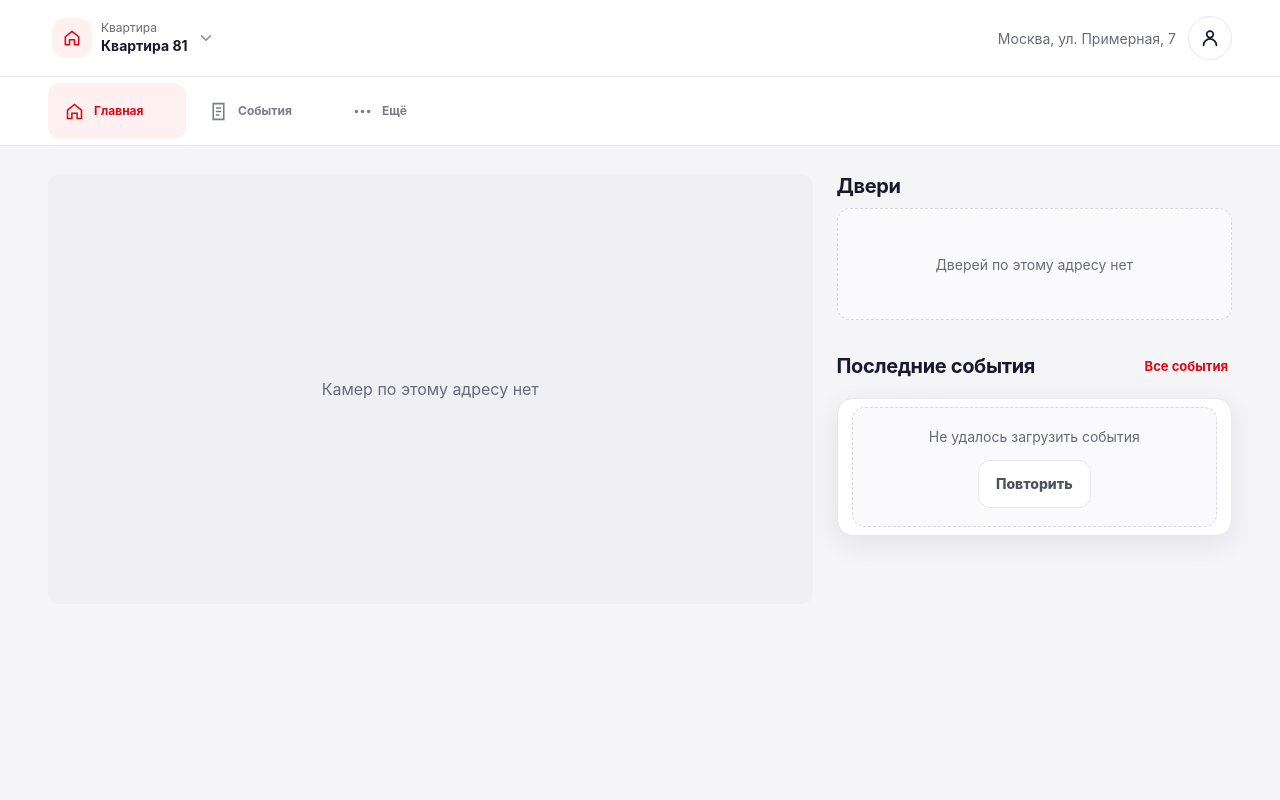
Test: live intercom dashboard › renders honest empty and error states for a selected flat
Check: the text "Дверей по этому адресу нет" is shown, box [836,208,1232,320]
Check: the text "Камер по этому адресу нет" is shown, box [48,174,812,604]
What coordinates should you click on to do the following:
click the button "Квартира Квартира 81"
I would click on:
 (135, 38)
Its box is [48,14,223,62].
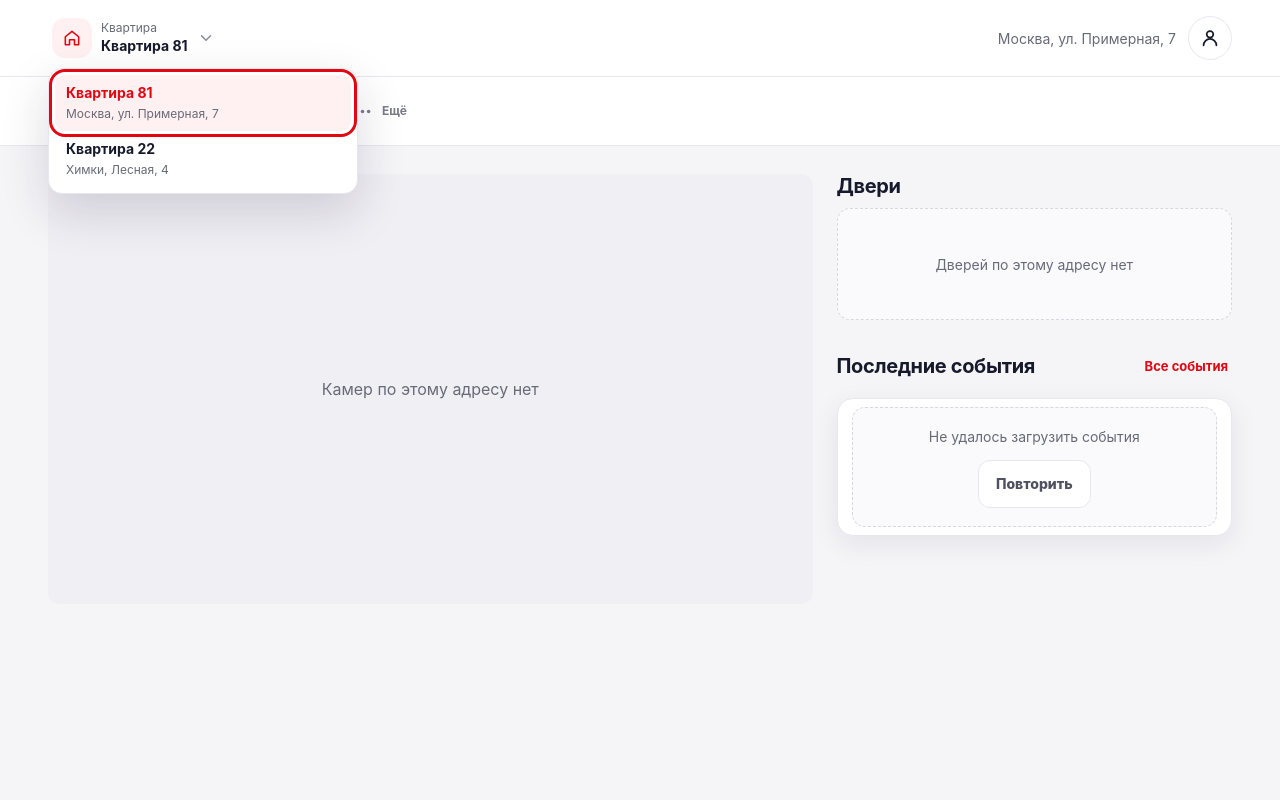
What coordinates should you click on to do the following:
click the menu item "Квартира 22 Химки, Лесная, 4"
I would click on:
 (111, 148)
Its box is [55,131,351,187].
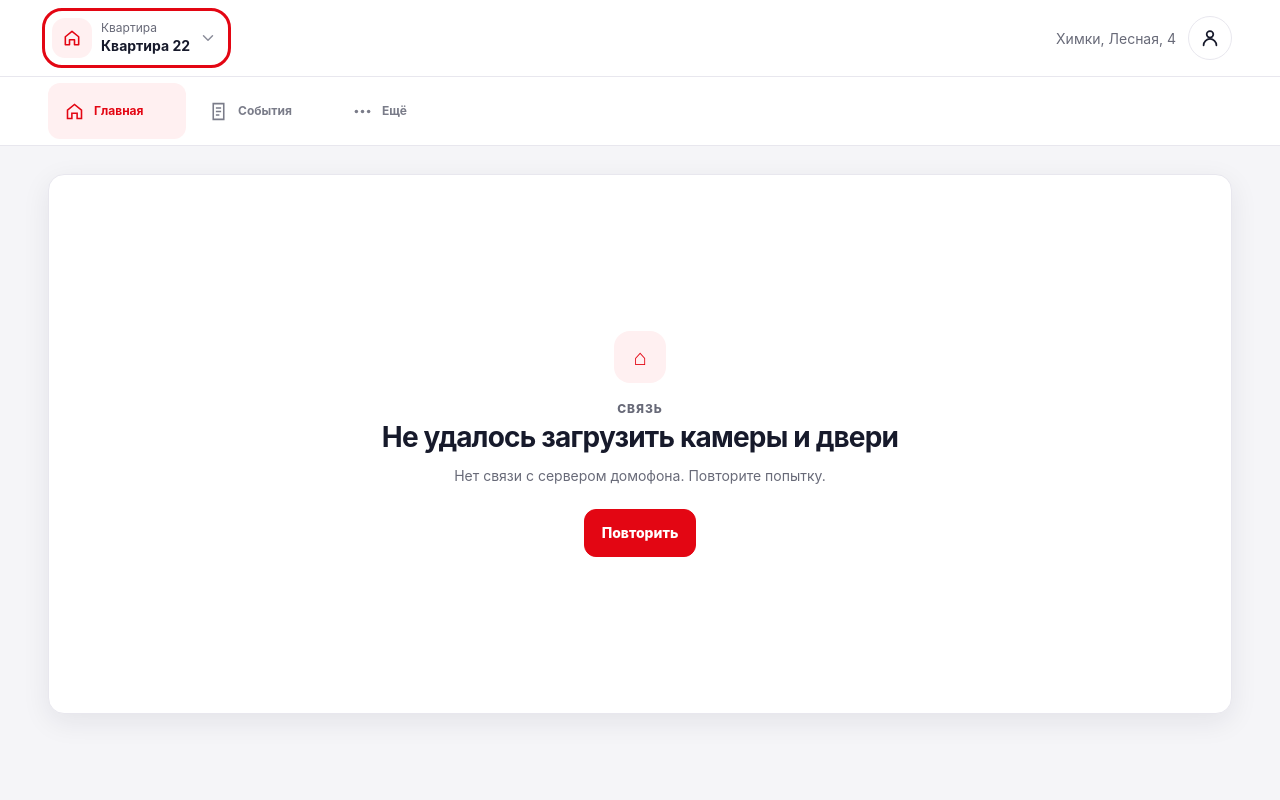
Check: the heading "Не удалось загрузить камеры и двери" is shown, box [382,422,898,454]
